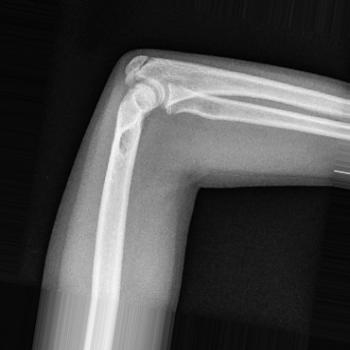Fracture: (121, 47, 153, 83)
